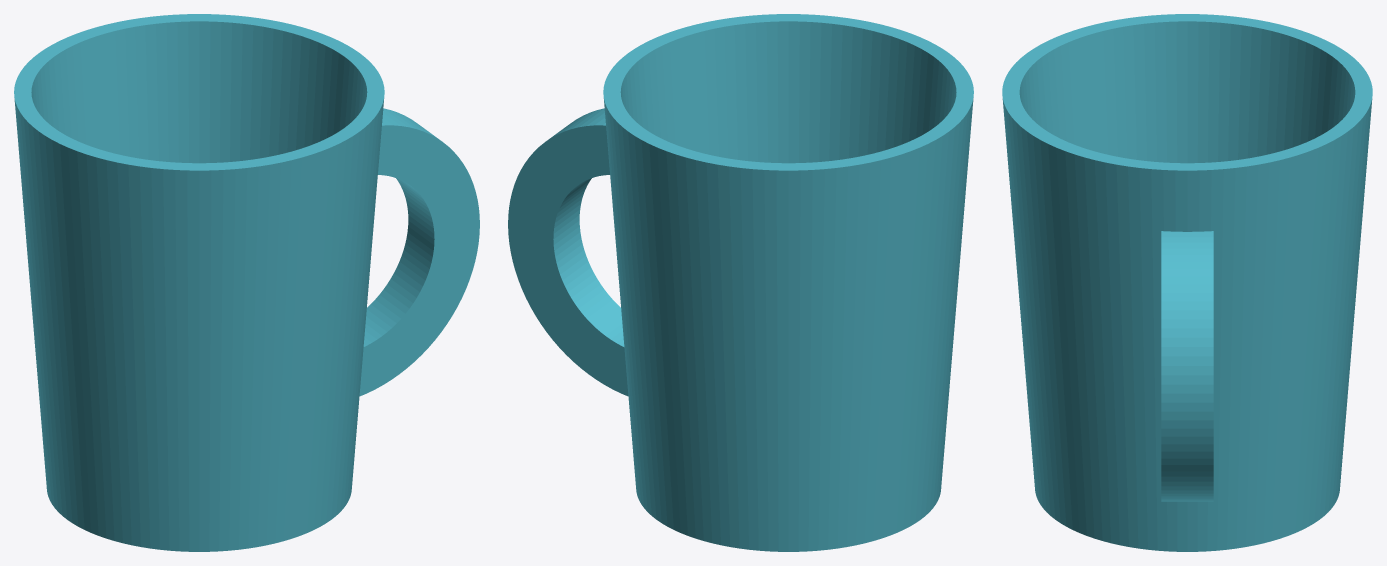
The model's file is cup.glb.
The picture shows the model from 3 angles, left to right: view 1: azimuth 30°, elevation 25°; view 2: azimuth 150°, elevation 25°; view 3: azimuth 270°, elevation 25°; orthographic projection.
Parts seen in each view (by area): view 1: world; view 2: world; view 3: world.
Boxes of the visible parts, box(x1,y1,x2,y2) form: world: box(14, 14, 479, 551); world: box(508, 14, 973, 551); world: box(1002, 14, 1372, 551).
Size of the model in its own units: 0.1133 by 0.1 by 0.085.
